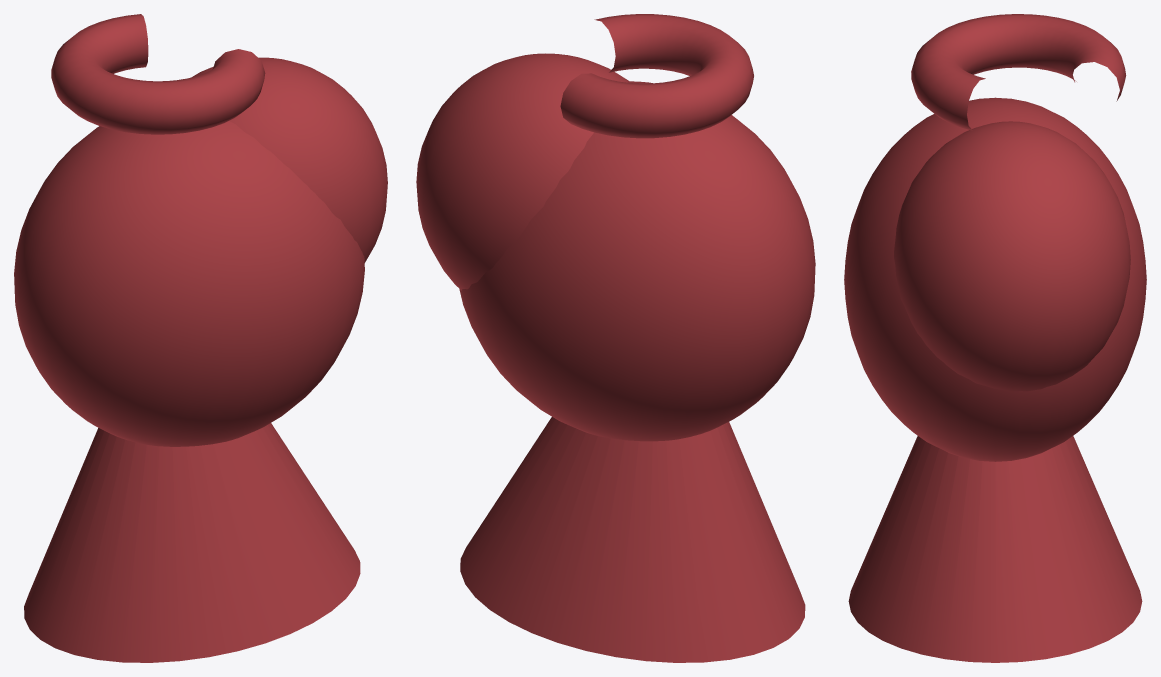
Rendered from heart.glb.
3 renders of one model, left to right at view 1: azimuth 30°, elevation 25°; view 2: azimuth 150°, elevation 25°; view 3: azimuth 270°, elevation 25°, orthographic. The views are drawn at different scales.
Visible parts, largest first — view 1: Heart_placeholder; view 2: Heart_placeholder; view 3: Heart_placeholder.
Boxes of the visible parts, <box> form: Heart_placeholder: <box>14,14,387,662</box>; Heart_placeholder: <box>416,14,815,662</box>; Heart_placeholder: <box>844,14,1146,662</box>.
Bounding box in the file's own units: 0.5296 × 0.7926 × 0.3936.
